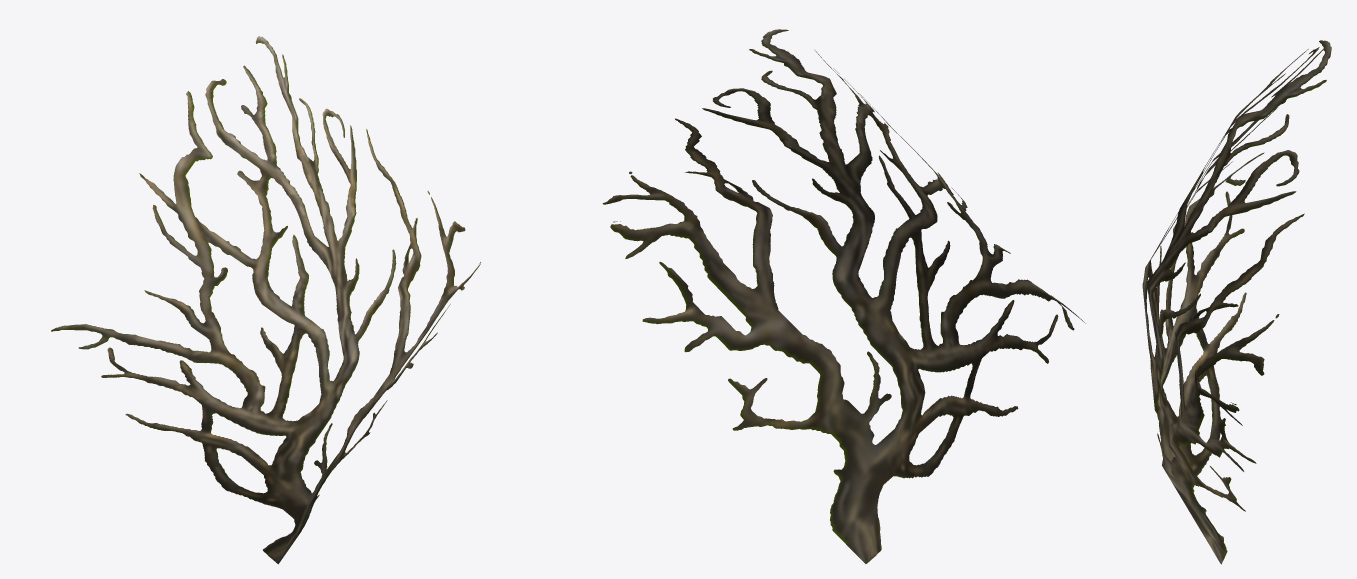
Rendered from daliang_field_d_s03c.fbx.
3 views of the same model, side by side, from view 1: azimuth 30°, elevation 25°; view 2: azimuth 150°, elevation 25°; view 3: azimuth 270°, elevation 25° (orthographic). The views are drawn at different scales.
Visible parts, largest first — view 1: daliang_field_d_s03c; view 2: daliang_field_d_s03c; view 3: daliang_field_d_s03c.
Boxes of the visible parts, x1=… form: daliang_field_d_s03c: x1=51, y1=36, x2=480, y2=564; daliang_field_d_s03c: x1=602, y1=29, x2=1085, y2=563; daliang_field_d_s03c: x1=1142, y1=40, x2=1331, y2=564.
Bounding box in the file's own units: 916 × 899 × 292.
